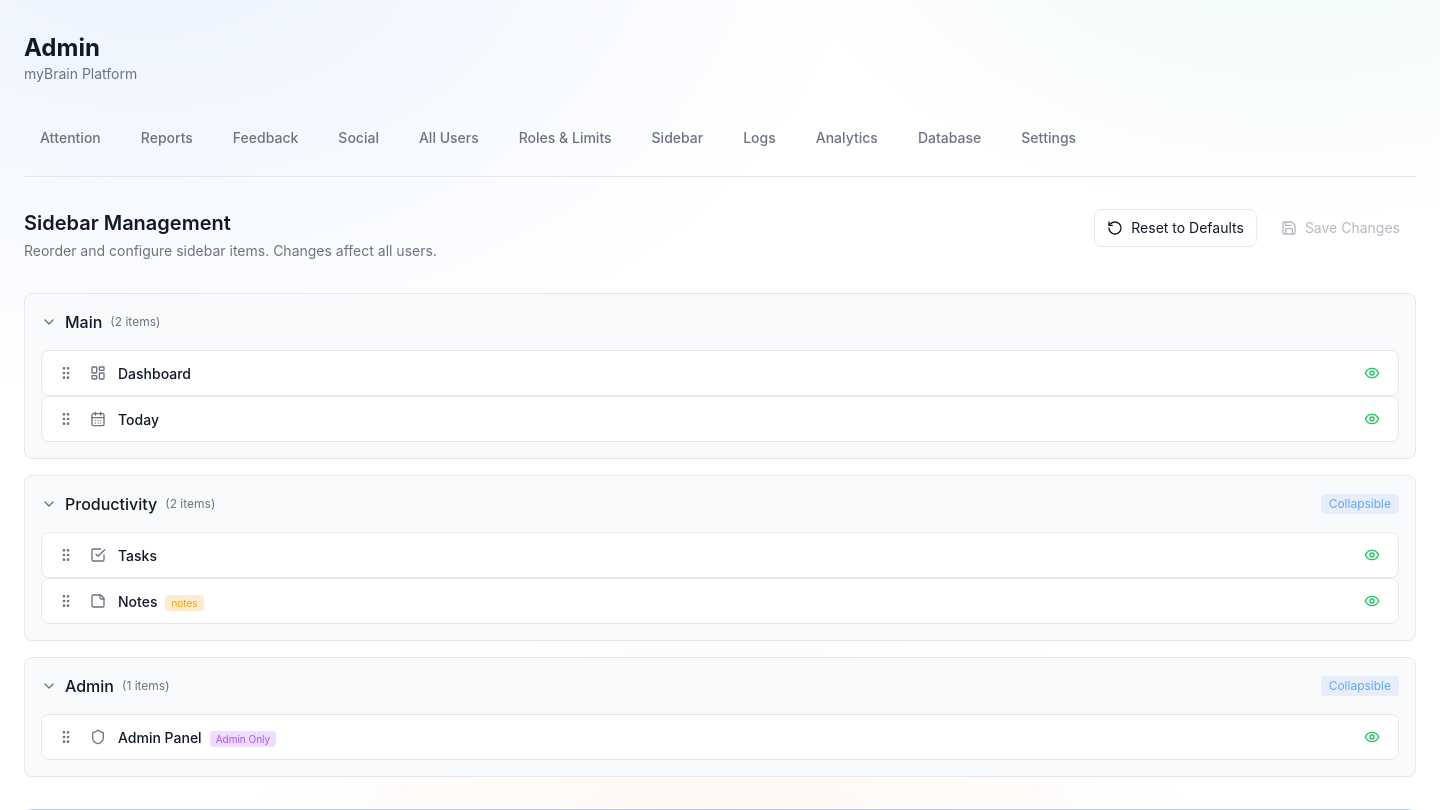
Test: AdminSidebarPage › Reset to Defaults Button › shows warning message in confirmation dialog
Click the button "Reset to Defaults" at [1176, 228], box left=1094, top=209, right=1257, bottom=247
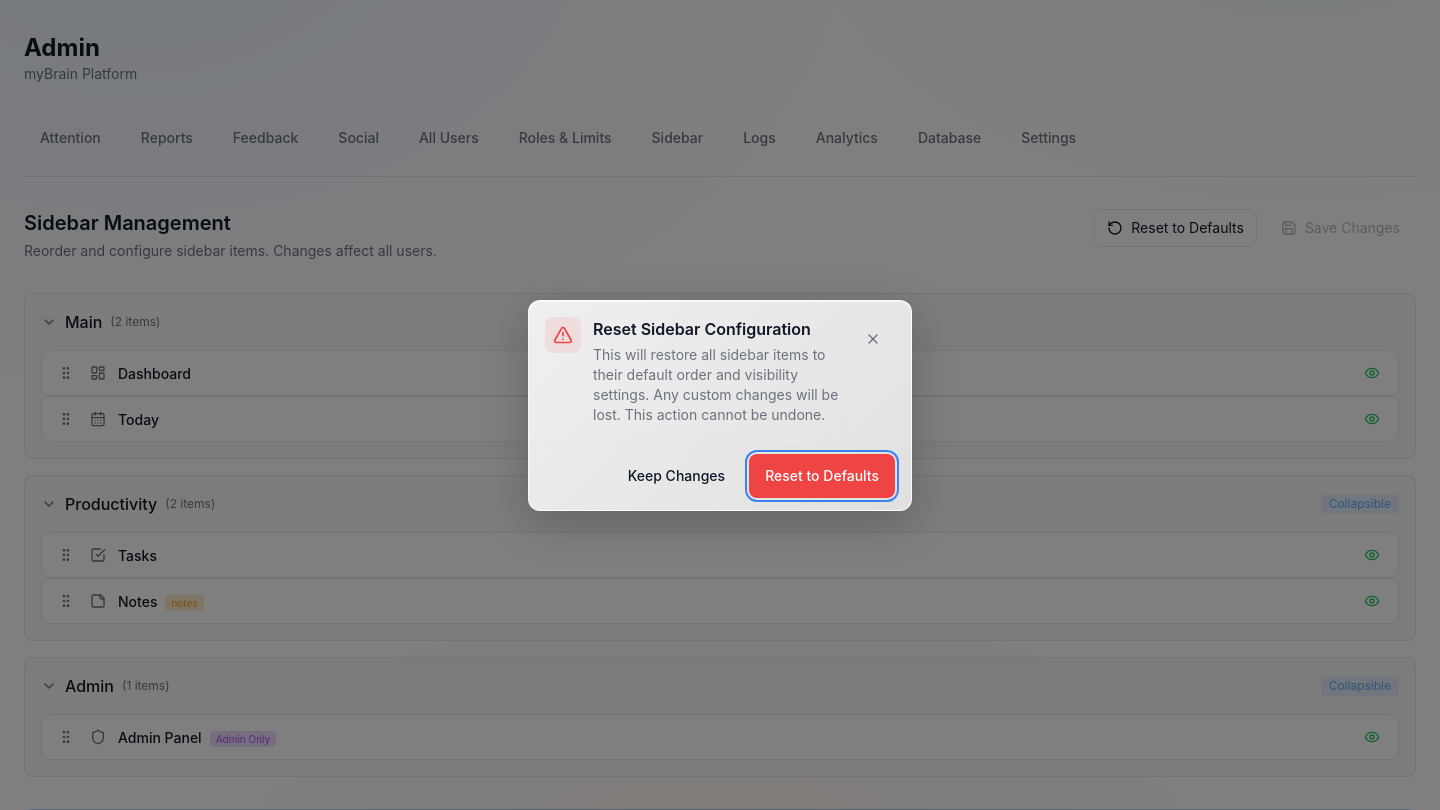
expect the text "This will restore all sidebar items to their default order" is shown: met, box left=593, top=346, right=838, bottom=422
